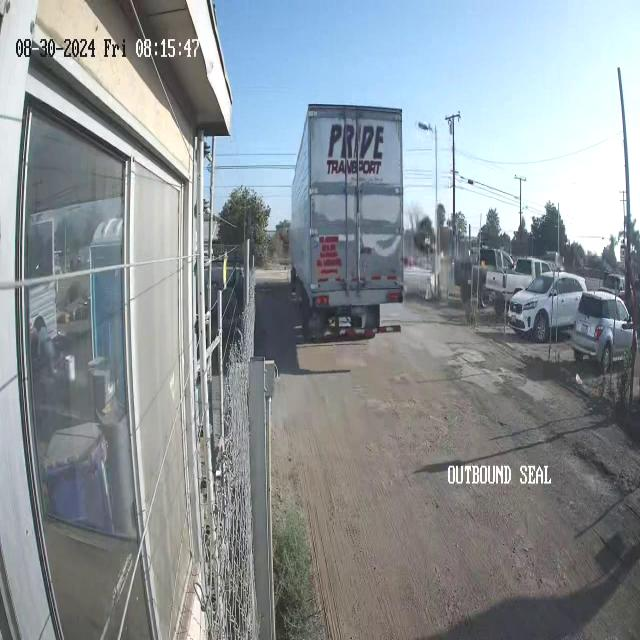TRUCK_CONTAINER: (288, 102, 404, 341)
